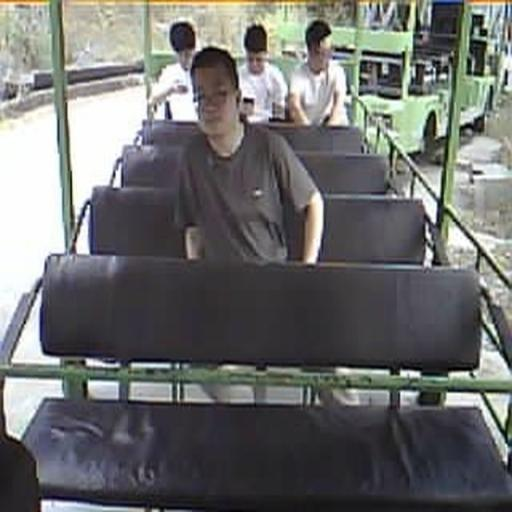persona: (175, 45, 325, 266), (288, 19, 350, 126), (236, 23, 289, 122), (149, 21, 198, 120)
